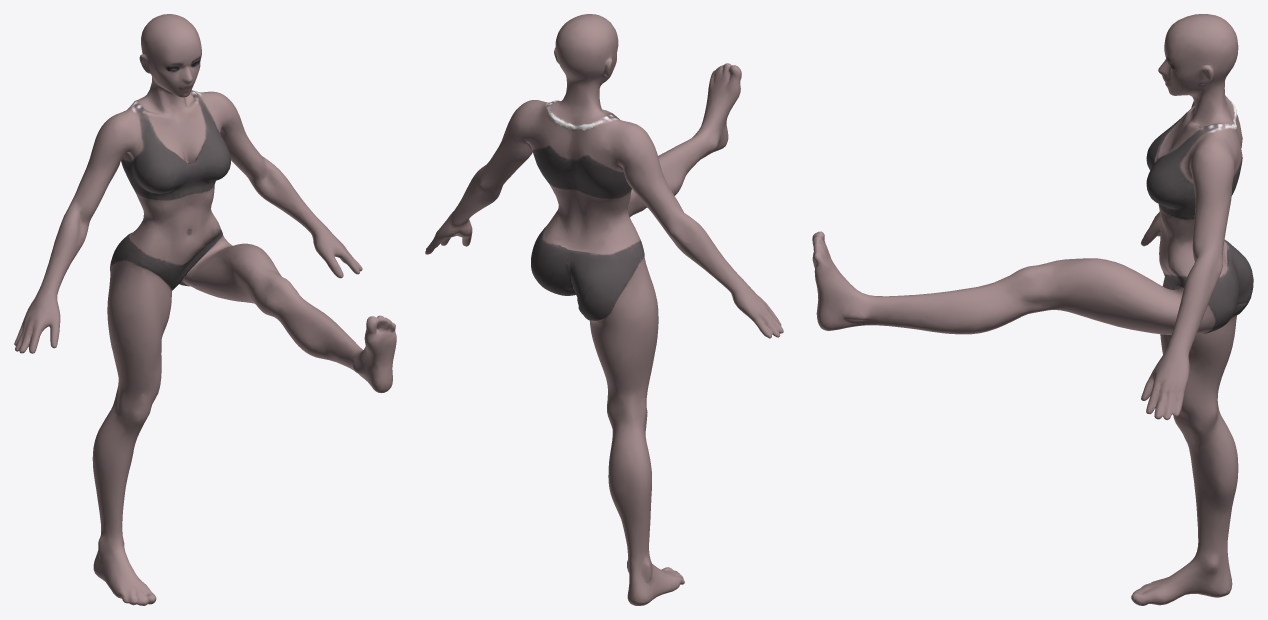
The model's file is world_target-ThighR-90.glb.
The picture shows the model from 3 angles, left to right: view 1: azimuth 30°, elevation 25°; view 2: azimuth 150°, elevation 25°; view 3: azimuth 270°, elevation 25°; orthographic projection. The views are drawn at different scales.
Parts seen in each view (by area): view 1: world_target-ThighR-90; view 2: world_target-ThighR-90; view 3: world_target-ThighR-90.
Part boxes in pixels (x1=…): world_target-ThighR-90: x1=14, y1=14, x2=396, y2=605; world_target-ThighR-90: x1=425, y1=14, x2=783, y2=605; world_target-ThighR-90: x1=812, y1=14, x2=1253, y2=605.
Bounding box in the file's own units: 0.6509 × 1 × 0.6526.
1 material, 1 textured.
